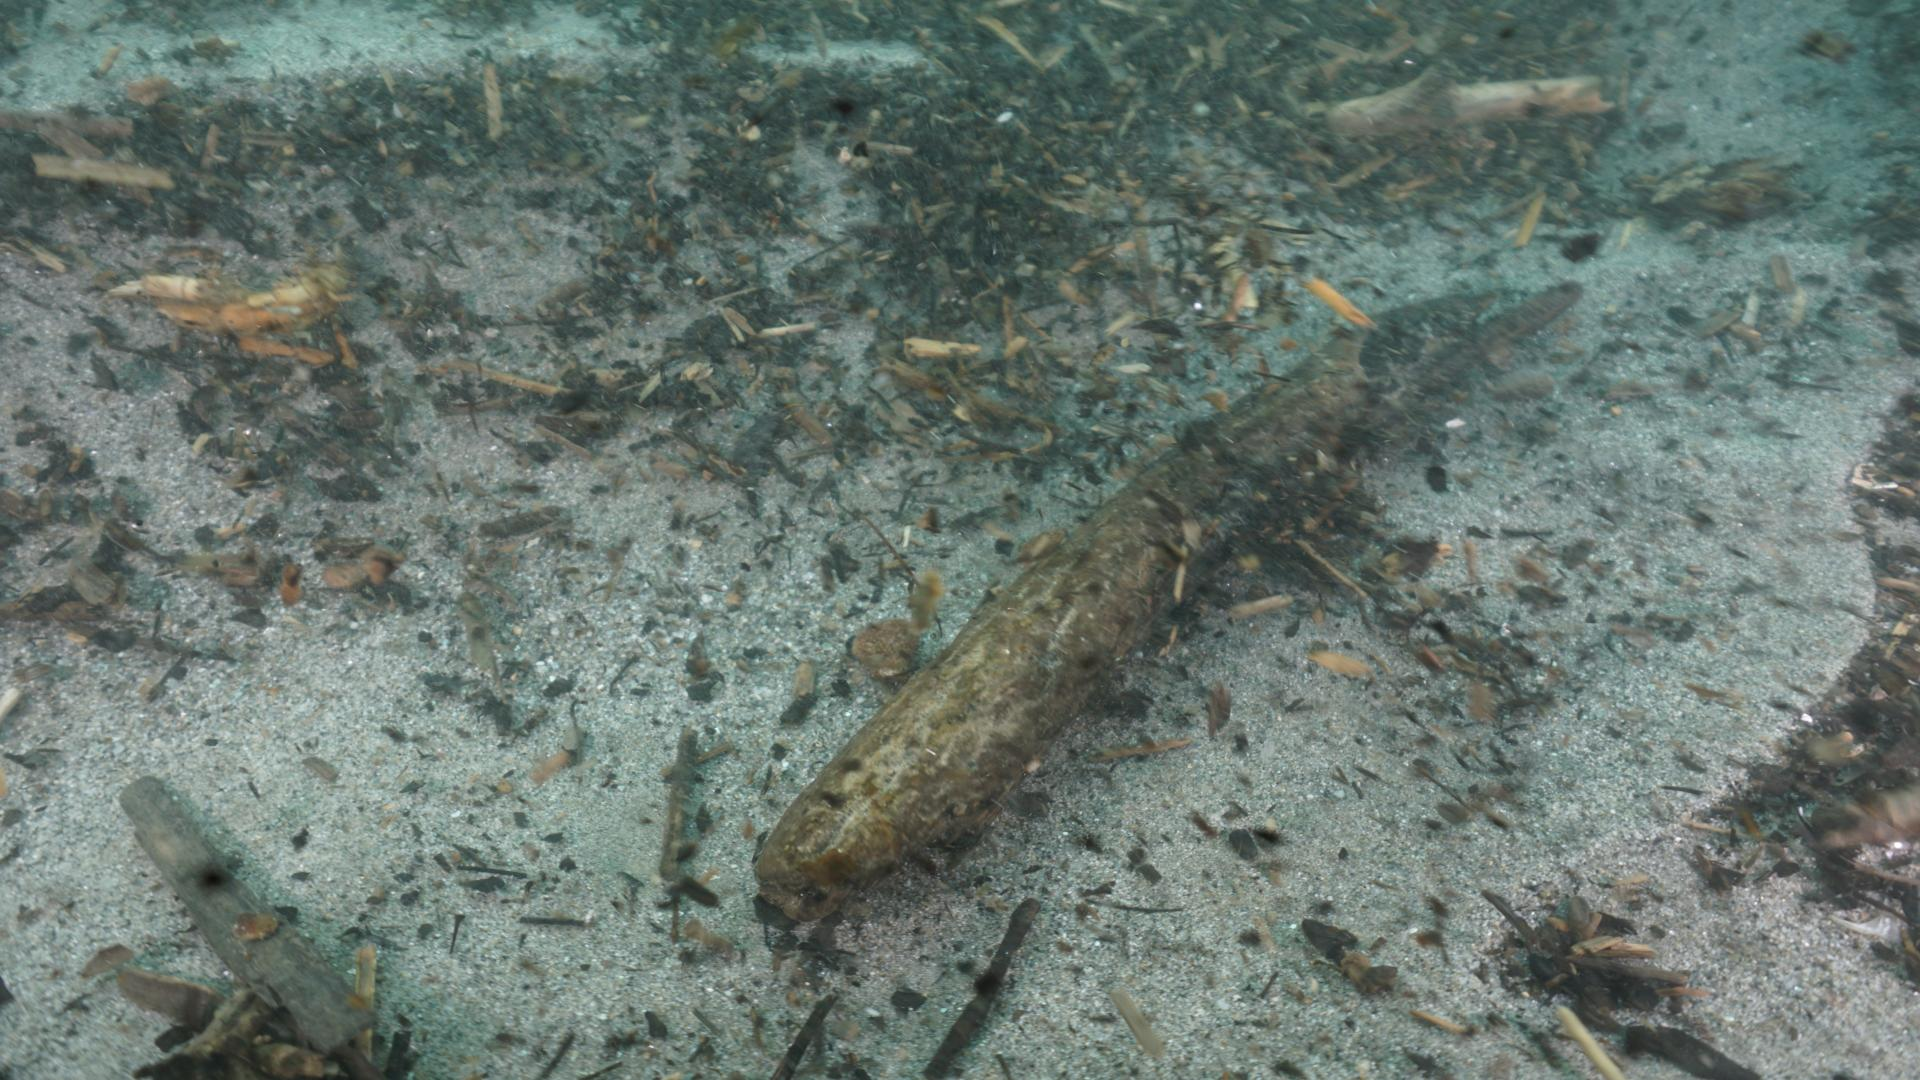wood: (753, 277, 1578, 903), (115, 771, 376, 1059), (1325, 73, 1611, 138)
